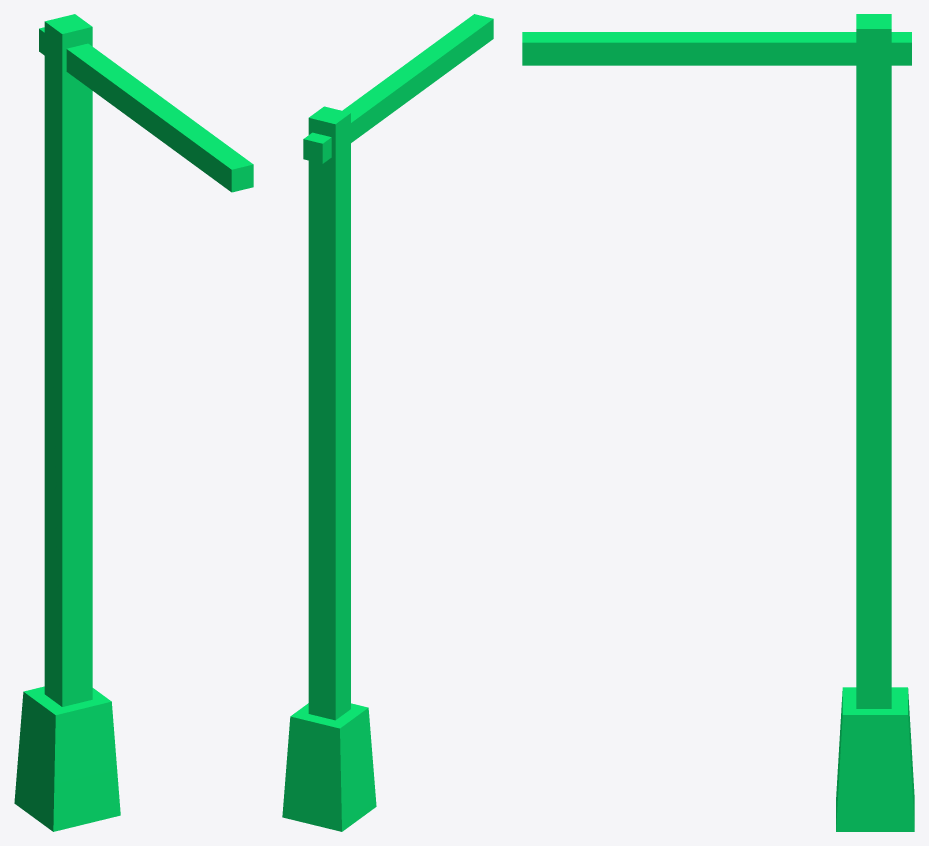
The model's file is Banner1_Collision.FBX.
3 views of the same model, side by side, from view 1: azimuth 30°, elevation 25°; view 2: azimuth 150°, elevation 25°; view 3: azimuth 270°, elevation 25° (orthographic). The views are drawn at different scales.
Parts seen in each view (by area): view 1: Banner1_Collision; view 2: Banner1_Collision; view 3: Banner1_Collision.
Boxes of the visible parts, left/top/right/bottom form: Banner1_Collision: left=14, top=14, right=253, bottom=831; Banner1_Collision: left=282, top=14, right=493, bottom=831; Banner1_Collision: left=522, top=14, right=914, bottom=831.
Size of the model in its own units: 0.9644 by 10.74 by 4.81.
